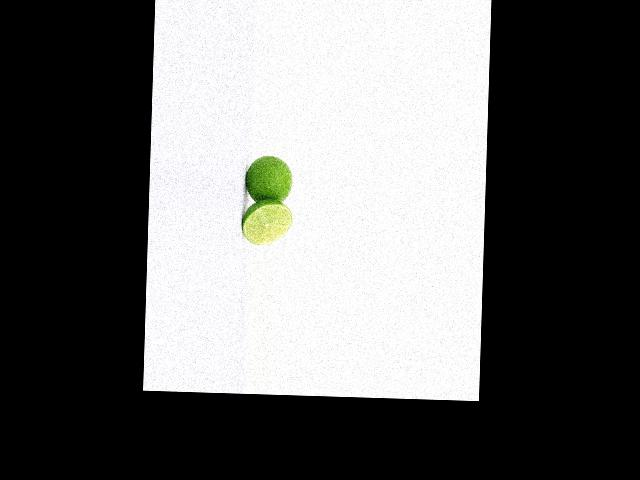lemon: (241, 153, 294, 204)
